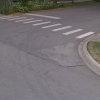Crosswalk: (8, 7, 100, 37)
